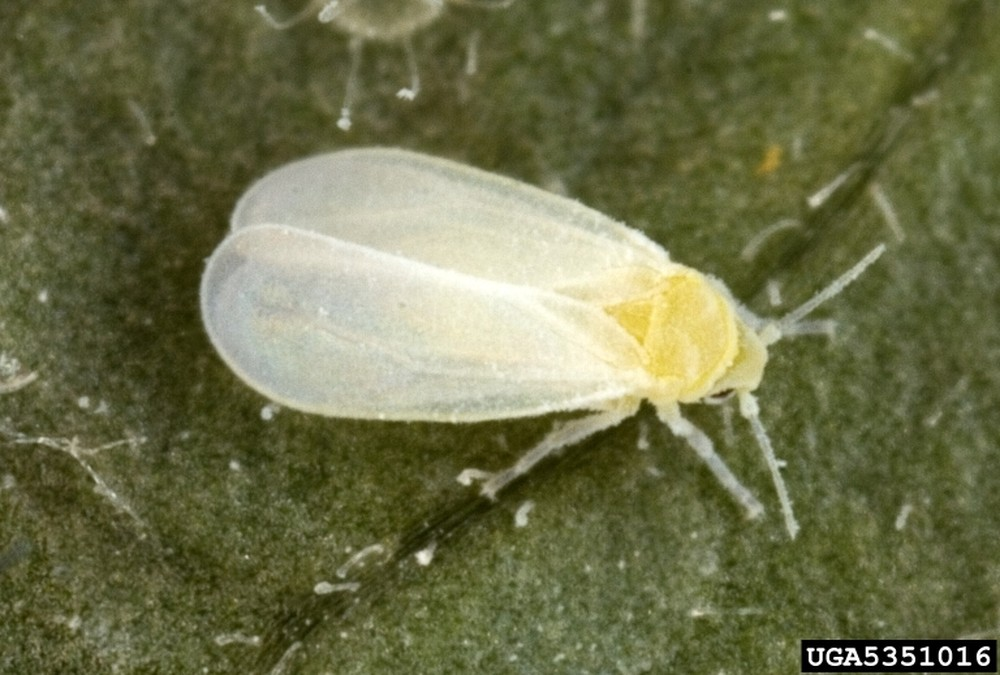Mosca Blanca: (197, 119, 904, 551)
